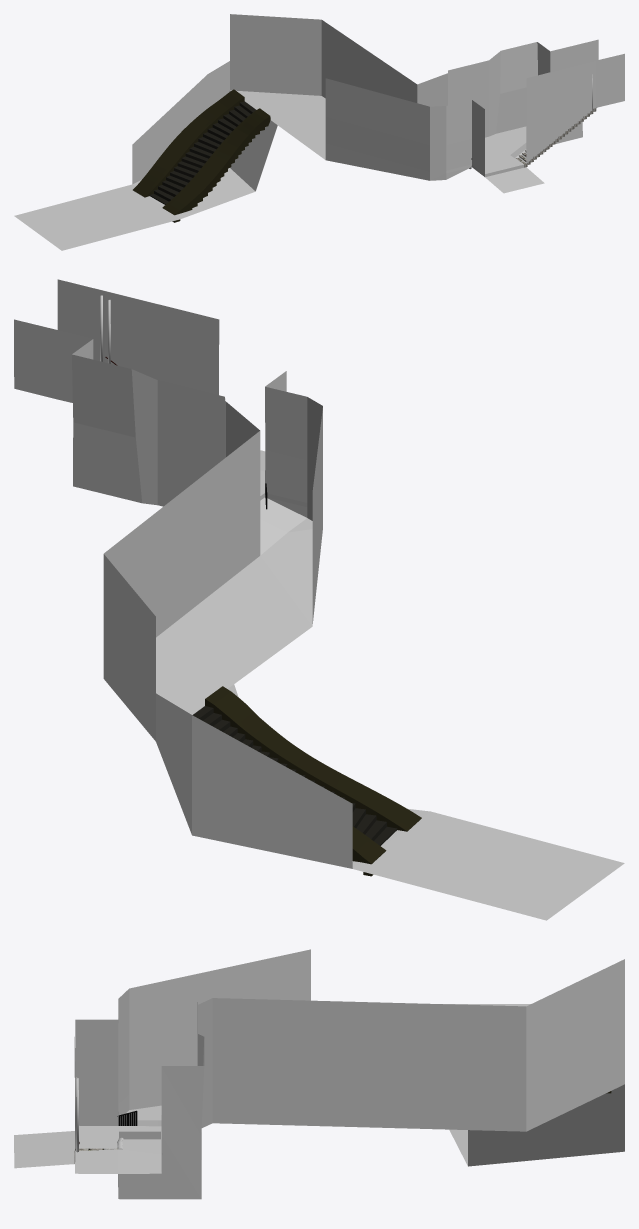
File: alley_model.obj
3 views of the same model, one above another, from view 1: azimuth 30°, elevation 25°; view 2: azimuth 150°, elevation 25°; view 3: azimuth 270°, elevation 25° (orthographic). The views are drawn at different scales.
Parts seen in each view (by area): view 1: Plane, Cube.003, Cube.001_Cube.002; view 2: Plane, Cube.003; view 3: Plane, Cube_Cube.001.
Boxes of the visible parts, x1,y1,x2,y2 form: Plane: [14, 14, 624, 250]; Cube.003: [133, 89, 270, 222]; Cube.001_Cube.002: [516, 108, 596, 167]; Plane: [14, 279, 624, 920]; Cube.003: [192, 686, 421, 876]; Plane: [14, 949, 624, 1199]; Cube_Cube.001: [119, 1127, 160, 1139].
Bounding box in the file's own units: 61.07 × 21.89 × 43.28.
